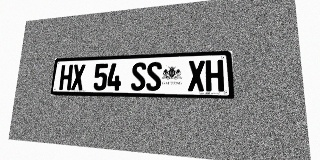4: (107, 63, 122, 91)
5: (93, 63, 108, 90)
H: (205, 60, 224, 91), (59, 65, 73, 90)
S: (146, 62, 162, 91), (131, 62, 146, 91)
X: (188, 60, 205, 91), (71, 64, 85, 90)
